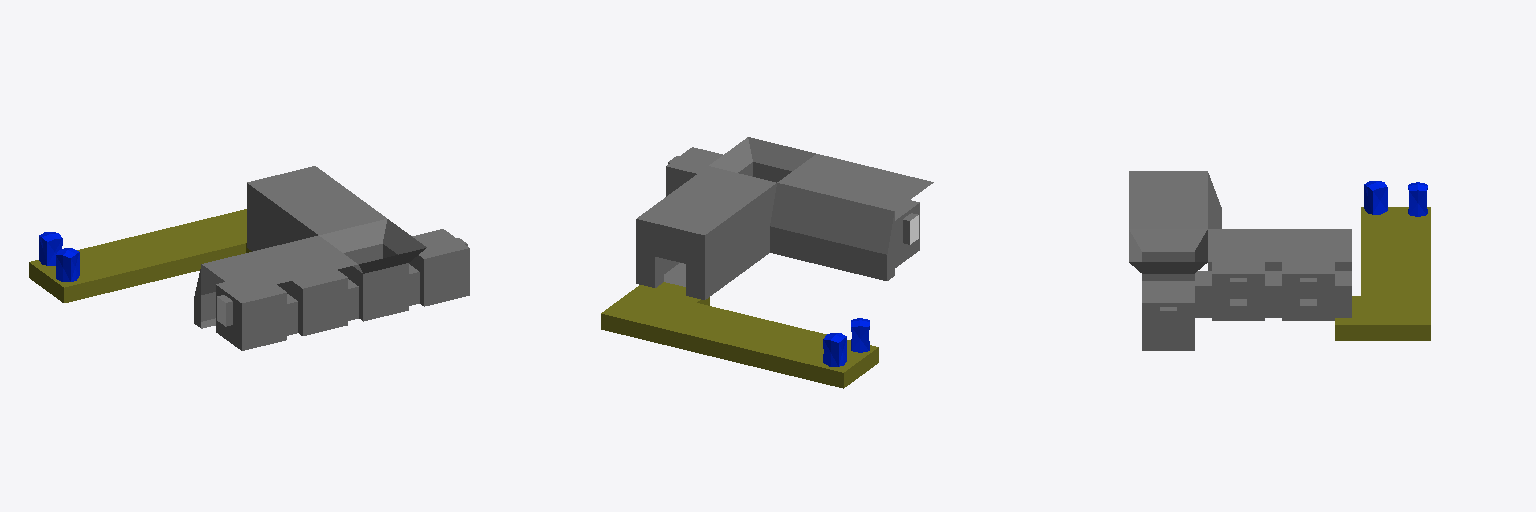
File: room1a.obj
3 renders of one model, left to right at view 1: azimuth 30°, elevation 25°; view 2: azimuth 150°, elevation 25°; view 3: azimuth 270°, elevation 25°, orthographic.
Parts seen in each view (by area): view 1: group1 polySurface6, group1 pCube5, group1 polySurface11, group1 polySurface10, group1 pCube9, group1 pCube7; view 2: group1 polySurface6, group1 pCube5, group1 polySurface9, group1 polySurface11, group1 polySurface10, group1 pCube7, group1 pCube9, group1 pCube6; view 3: group1 polySurface6, group1 pCube5, group1 polySurface9, group1 polySurface10, group1 polySurface5, group1 pCube6, group1 pCube9, group1 pCube7.
Boxes of the visible parts, x1=… form: group1 polySurface6: x1=194, y1=166, x2=426, y2=328; group1 pCube5: x1=29, y1=209, x2=246, y2=302; group1 polySurface11: x1=216, y1=270, x2=347, y2=350; group1 polySurface10: x1=409, y1=229, x2=469, y2=306; group1 pCube9: x1=56, y1=248, x2=79, y2=281; group1 pCube7: x1=39, y1=232, x2=62, y2=265; group1 polySurface6: x1=637, y1=137, x2=933, y2=299; group1 pCube5: x1=601, y1=288, x2=878, y2=388; group1 polySurface9: x1=636, y1=219, x2=704, y2=299; group1 polySurface11: x1=895, y1=200, x2=919, y2=267; group1 polySurface10: x1=666, y1=147, x2=722, y2=196; group1 pCube7: x1=823, y1=333, x2=846, y2=366; group1 pCube9: x1=851, y1=318, x2=869, y2=352; group1 pCube6: x1=636, y1=282, x2=709, y2=305; group1 polySurface6: x1=1129, y1=171, x2=1351, y2=280; group1 pCube5: x1=1361, y1=207, x2=1430, y2=340; group1 polySurface9: x1=1212, y1=262, x2=1351, y2=320; group1 polySurface10: x1=1142, y1=281, x2=1194, y2=350; group1 polySurface5: x1=1195, y1=271, x2=1211, y2=317; group1 pCube6: x1=1335, y1=296, x2=1360, y2=340; group1 pCube9: x1=1364, y1=181, x2=1387, y2=214; group1 pCube7: x1=1408, y1=182, x2=1427, y2=216.
Size of the model in its own units: 1994 by 508 by 1726.